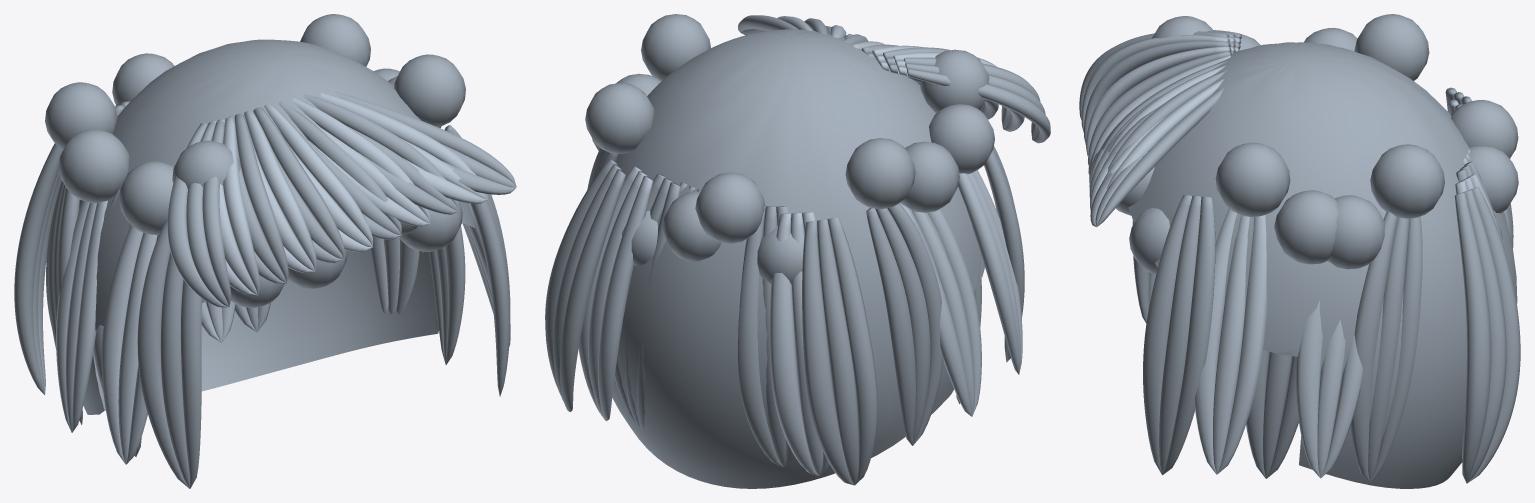
3 views of the same model, side by side, from view 1: azimuth 30°, elevation 25°; view 2: azimuth 150°, elevation 25°; view 3: azimuth 270°, elevation 25° (orthographic). The views are drawn at different scales.
Visible parts, largest first — view 1: CrownHair_male_ref05, SideHair_-1_0_Strand2, BackHair_00_Strand0, Hair_Wave_04, SideHair_-1_0_Strand1, SideHair_-1_1_Strand2, Hair_Wave_08, SideHair_-1_0_Strand0, Hair_Wave_12, SideHair_-1_1_Strand1, SideHair_-1_3_Strand0, SideHair_1_0_Strand2 (+48 smaller); view 2: CrownHair_male_ref05, BackHair_00_Strand2, BackHair_01_Strand2, BackHair_00_Strand1, BackHair_00_Strand0, BackHair_02_Strand2, SideHair_-1_4_Strand2, BackHair_08_Strand0, BackHair_07_Strand0, Hair_Wave_12, Hair_Wave_15, Hair_Wave_05 (+29 smaller); view 3: CrownHair_male_ref05, BackHair_08_Strand2, SideHair_1_0_Strand0, SideHair_1_0_Strand2, SideHair_1_0_Strand1, SideHair_1_1_Strand0, SideHair_1_1_Strand1, SideHair_1_4_Strand2, Hair_Wave_08, Hair_Wave_05, SideHair_1_4_Strand1, SideHair_1_4_Strand0 (+31 smaller).
Part boxes in pixels (x1,y1,x2,y2): CrownHair_male_ref05: (79, 39, 475, 414); SideHair_-1_0_Strand2: (137, 219, 189, 488); BackHair_00_Strand0: (14, 143, 62, 394); Hair_Wave_04: (58, 129, 129, 202); SideHair_-1_0_Strand1: (160, 252, 189, 488); SideHair_-1_1_Strand2: (101, 225, 143, 464); Hair_Wave_08: (394, 54, 465, 127); SideHair_-1_0_Strand0: (180, 279, 201, 488); Hair_Wave_12: (45, 82, 117, 150); SideHair_-1_1_Strand1: (118, 232, 157, 464); SideHair_-1_3_Strand0: (72, 200, 107, 432); SideHair_1_0_Strand2: (470, 200, 510, 396); CrownHair_male_ref05: (612, 29, 984, 488); BackHair_00_Strand2: (802, 220, 854, 485); BackHair_01_Strand2: (769, 213, 818, 475); BackHair_00_Strand1: (817, 219, 859, 484); BackHair_00_Strand0: (827, 217, 877, 484); BackHair_02_Strand2: (737, 206, 783, 466); SideHair_-1_4_Strand2: (866, 208, 915, 445); BackHair_08_Strand0: (559, 169, 625, 411); BackHair_07_Strand0: (598, 176, 652, 421); Hair_Wave_12: (845, 138, 915, 209); Hair_Wave_15: (695, 172, 765, 243); Hair_Wave_05: (585, 83, 654, 153); CrownHair_male_ref05: (1128, 42, 1517, 488); BackHair_08_Strand2: (1454, 192, 1491, 483); SideHair_1_0_Strand0: (1162, 196, 1215, 475); SideHair_1_0_Strand2: (1143, 195, 1192, 474); SideHair_1_0_Strand1: (1159, 195, 1201, 474); SideHair_1_1_Strand0: (1217, 215, 1267, 474); SideHair_1_1_Strand1: (1213, 215, 1249, 474); SideHair_1_4_Strand2: (1350, 211, 1397, 482); Hair_Wave_08: (1215, 142, 1290, 217); Hair_Wave_05: (1370, 144, 1444, 218); SideHair_1_4_Strand1: (1368, 217, 1409, 482); SideHair_1_4_Strand0: (1370, 216, 1422, 482).
Bounding box in the file's own units: 0.7793 × 0.7341 × 0.7337.
